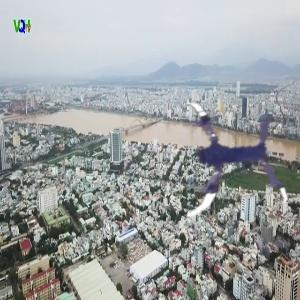drone: (155, 91, 289, 225)
